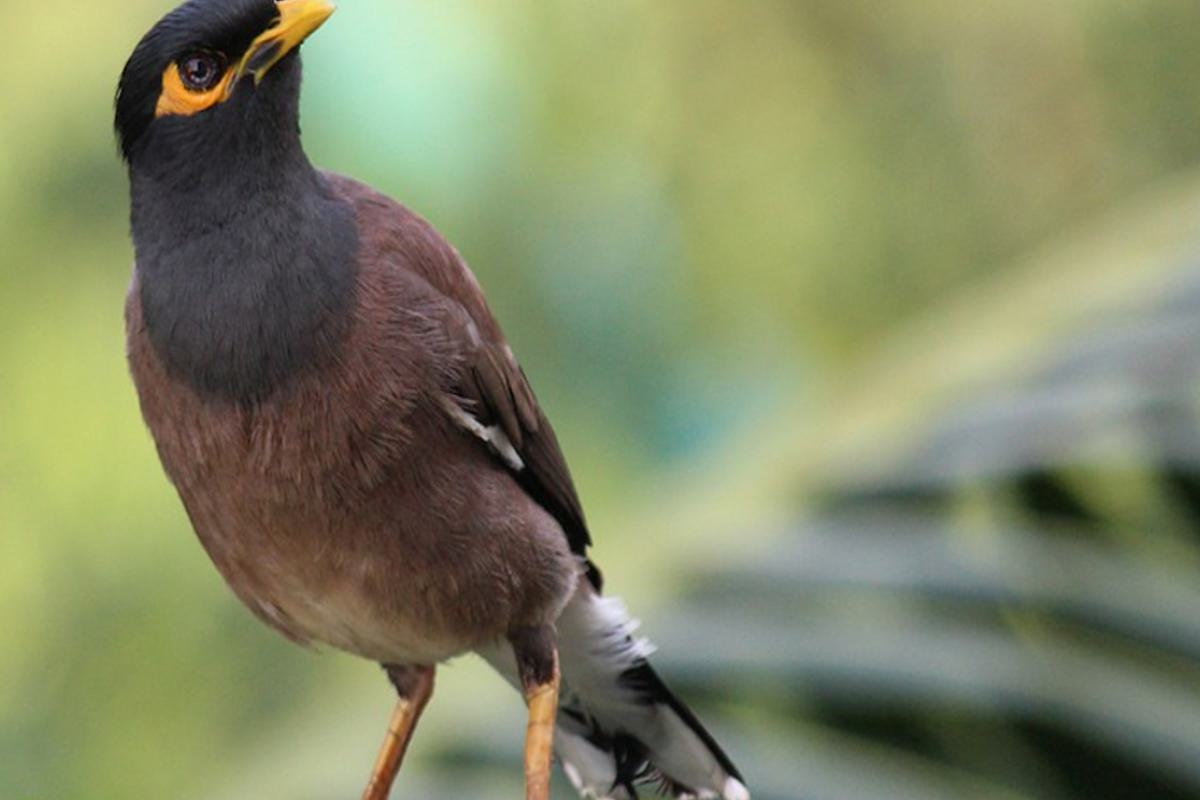myna: (114, 6, 676, 743)
